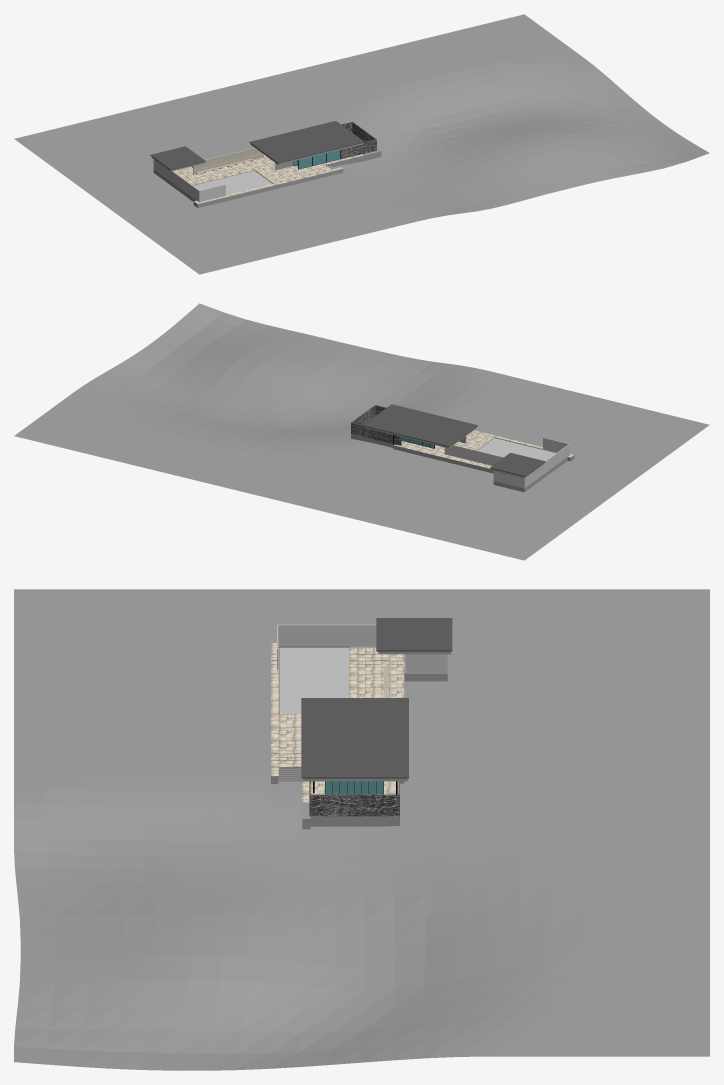
Rendered from Pabellon_Barcelona_v1.3.obj.
3 views of the same model, one above another, from view 1: azimuth 30°, elevation 25°; view 2: azimuth 150°, elevation 25°; view 3: azimuth 270°, elevation 25° (orthographic). The views are drawn at different scales.
Visible parts, largest first — view 1: tree_scatter_plane_Plane.018, Plane.001, Plane, Cube.033_Cube.150, lotus_scattering_plane_Plane.016, Cube.003_Cube.144, Plane.004, Cube.001_Cube.147, Cube.036_Cube.146, Cube.034_Cube.112; view 2: tree_scatter_plane_Plane.018, Plane.001, Cube.003_Cube.144, Plane, lotus_scattering_plane_Plane.016, Plane.004, Cube.001_Cube.147, Cube.033_Cube.150, Cube_Cube.151; view 3: tree_scatter_plane_Plane.018, Plane.001, lotus_scattering_plane_Plane.016, Cube.003_Cube.144, Plane.004, Plane, Cube.001_Cube.147, Cube.033_Cube.150, Cube.034_Cube.112, Cube.040_Cube.149, Cube.022_Cube.126.
Part boxes in pixels (left/top/right/bottom): tree_scatter_plane_Plane.018: left=14, top=14, right=709, bottom=274; Plane.001: left=249, top=121, right=364, bottom=164; Plane: left=153, top=149, right=381, bottom=207; Cube.033_Cube.150: left=245, top=155, right=333, bottom=185; lotus_scattering_plane_Plane.016: left=193, top=171, right=271, bottom=195; Cube.003_Cube.144: left=153, top=159, right=225, bottom=202; Plane.004: left=150, top=146, right=205, bottom=171; Cube.001_Cube.147: left=340, top=122, right=376, bottom=159; Cube.036_Cube.146: left=196, top=148, right=260, bottom=171; Cube.034_Cube.112: left=184, top=164, right=253, bottom=184; tree_scatter_plane_Plane.018: left=14, top=303, right=709, bottom=560; Plane.001: left=363, top=404, right=477, bottom=448; Cube.003_Cube.144: left=493, top=437, right=569, bottom=488; Plane: left=351, top=434, right=574, bottom=492; lotus_scattering_plane_Plane.016: left=478, top=438, right=555, bottom=461; Plane.004: left=490, top=452, right=545, bottom=477; Cube.001_Cube.147: left=351, top=405, right=401, bottom=445; Cube.033_Cube.150: left=406, top=430, right=496, bottom=460; Cube_Cube.151: left=444, top=445, right=503, bottom=465; tree_scatter_plane_Plane.018: left=14, top=589, right=709, bottom=1070; Plane.001: left=301, top=698, right=408, bottom=781; lotus_scattering_plane_Plane.016: left=280, top=647, right=348, bottom=713; Cube.003_Cube.144: left=277, top=624, right=447, bottom=673; Plane.004: left=376, top=618, right=452, bottom=654; Plane: left=271, top=646, right=447, bottom=829; Cube.001_Cube.147: left=309, top=781, right=399, bottom=816; Cube.033_Cube.150: left=271, top=714, right=301, bottom=767; Cube.034_Cube.112: left=349, top=647, right=380, bottom=697; Cube.040_Cube.149: left=381, top=654, right=404, bottom=697; Cube.022_Cube.126: left=325, top=781, right=383, bottom=793.
Size of the model in its own units: 143 by 7.42 by 89.88.
Materials: 14 (4 with a texture image).
